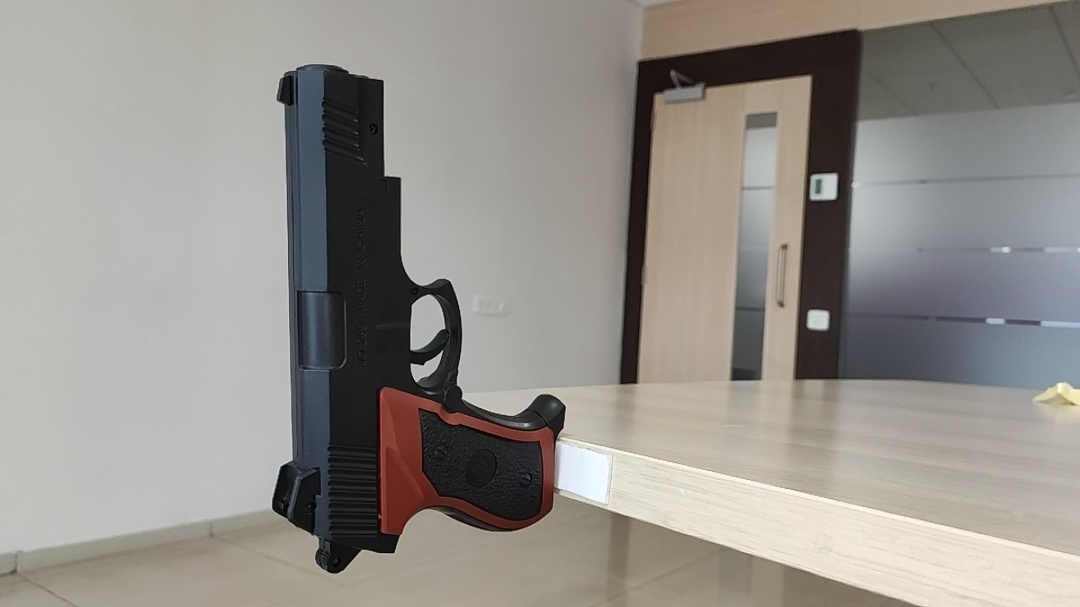gun: (273, 65, 563, 576)
